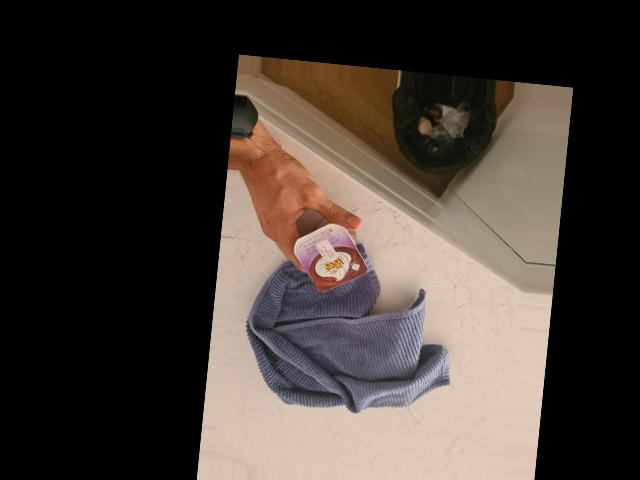milky: (293, 217, 372, 292)
